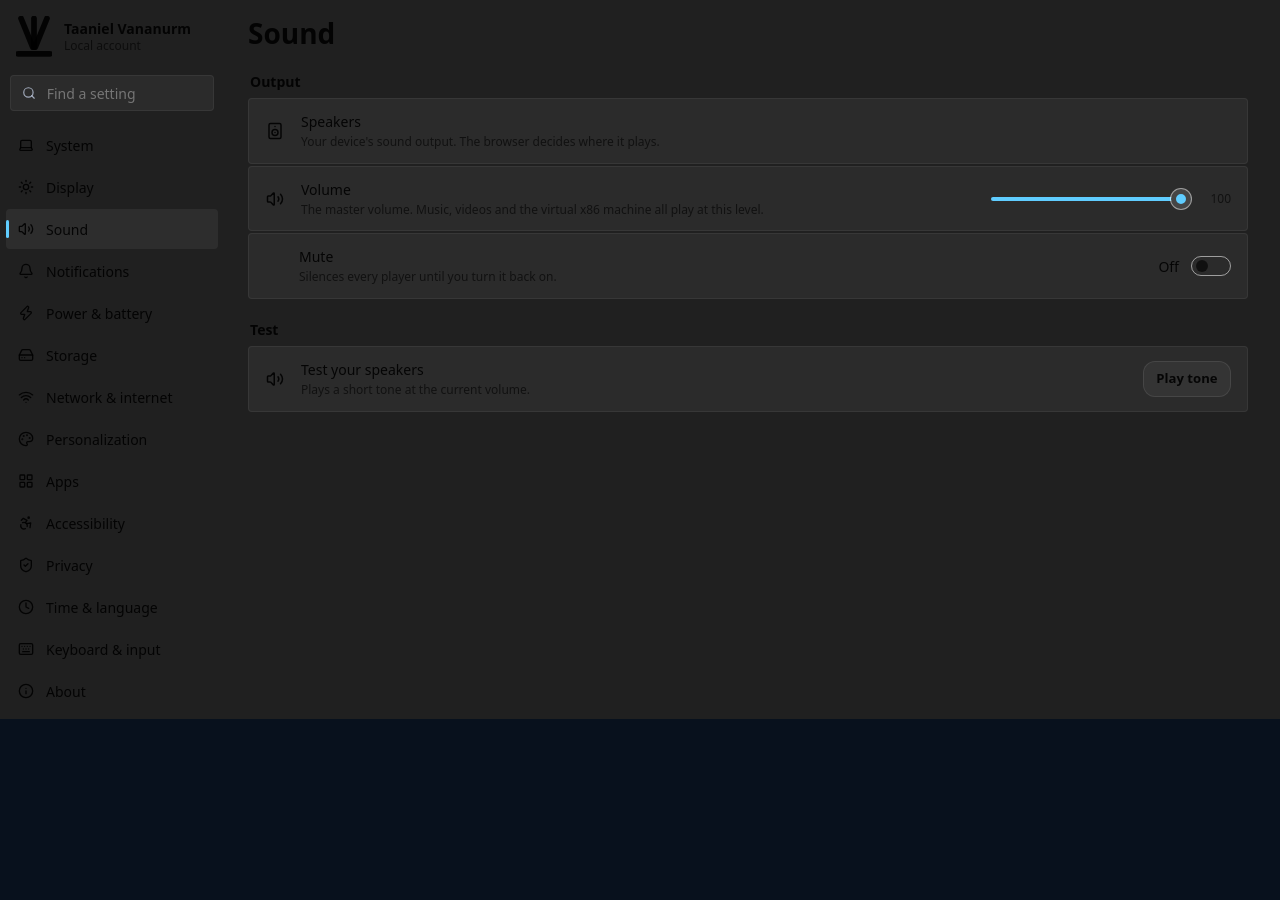
Sound page › says when the tone cannot play
The image size is (1280, 900).
Click the button "Play tone": coordinates (1187, 379) [1143,361,1231,397]
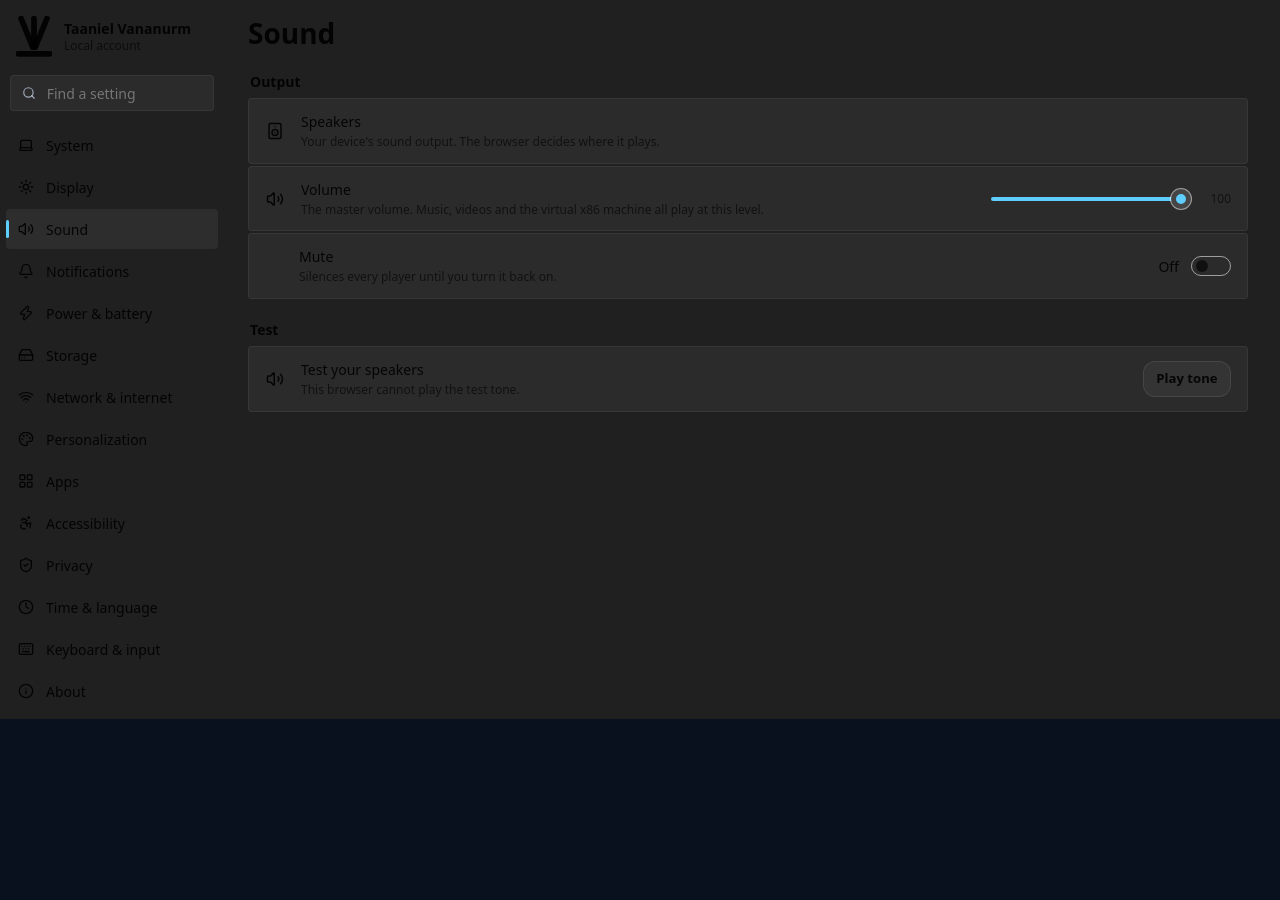
Expected: the text "This browser cannot play the test tone." is shown, [301,381,520,398]
